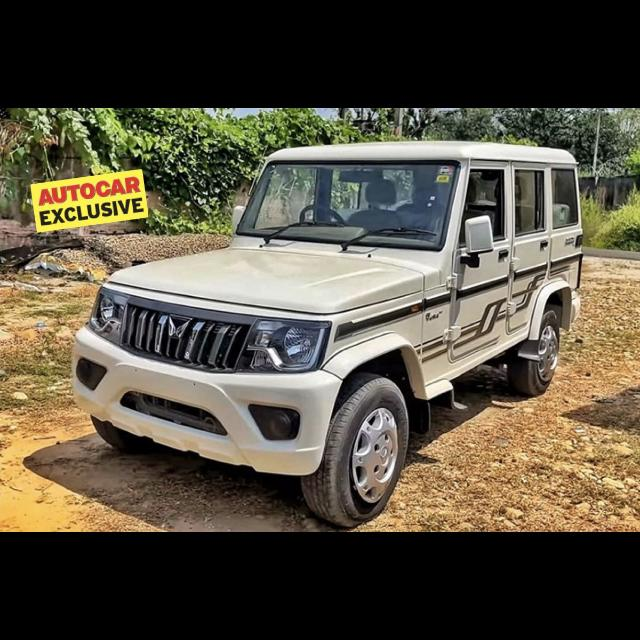number-plate: (118, 362, 230, 406)
vehicles: (78, 144, 573, 526)
